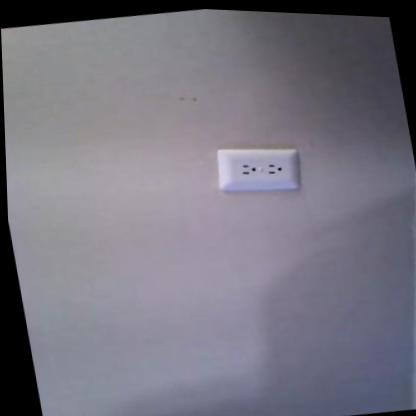OUTLET: (214, 137, 303, 200)
